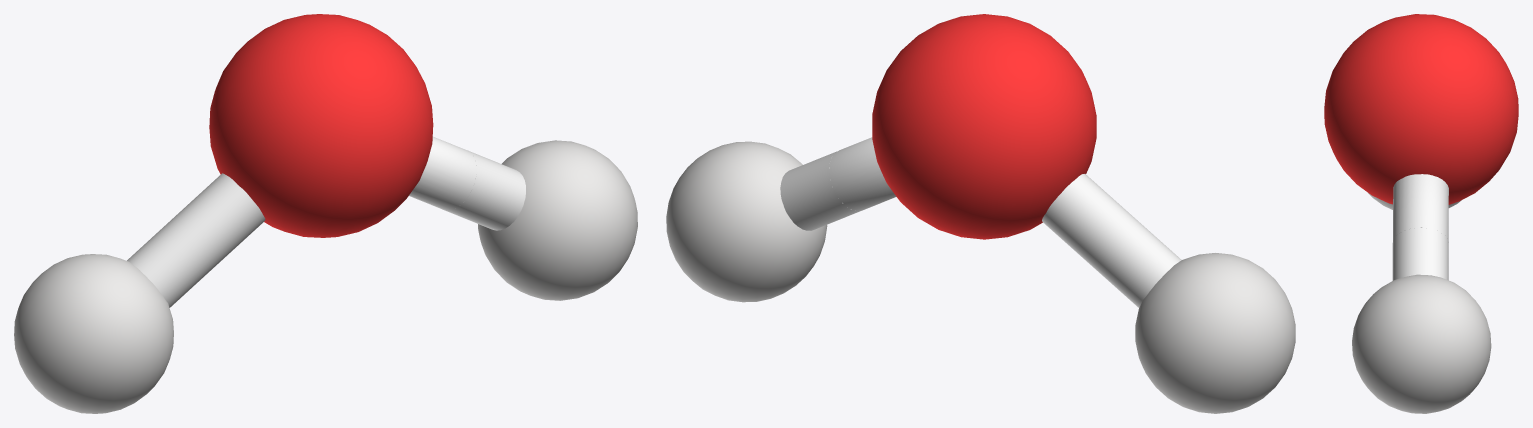
The model's file is shui.fbx.
3 views of the same model, side by side, from view 1: azimuth 30°, elevation 25°; view 2: azimuth 150°, elevation 25°; view 3: azimuth 270°, elevation 25° (orthographic). The views are drawn at different scales.
Visible parts, largest first — view 1: 对象098, 对象001, 对象095, 对象099; view 2: 对象098, 对象001, 对象095, 对象099; view 3: 对象098, 对象095, 对象099.
Boxes of the visible parts, box(x1,y1,x2,y2) form: 对象098: box(209, 14, 433, 237); 对象001: box(14, 173, 265, 413); 对象095: box(444, 140, 637, 300); 对象099: box(409, 136, 476, 210); 对象098: box(872, 14, 1096, 239); 对象001: box(1042, 174, 1295, 413); 对象095: box(666, 141, 861, 302); 对象099: box(829, 137, 896, 211); 对象098: box(1324, 14, 1518, 204); 对象095: box(1352, 227, 1491, 413); 对象099: box(1393, 174, 1448, 242).
Bounding box in the file's own units: 30.69 × 15.85 × 9.85.
